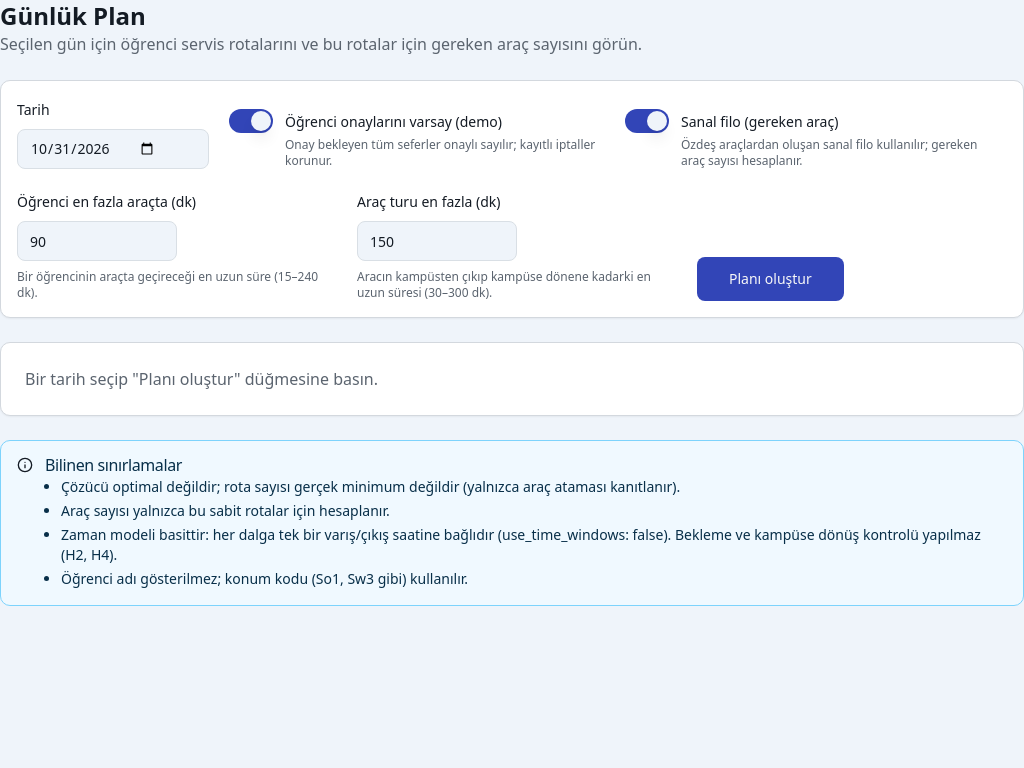
Scenario: DailyPlanPage › shows the limits used in the banner, the day's longest ride and each route's longest ride
The image size is (1024, 768).
Type "2026-10-05" into the date field labelled "Tarih" at (113, 149), box x1=17 y1=129 x2=209 y2=169
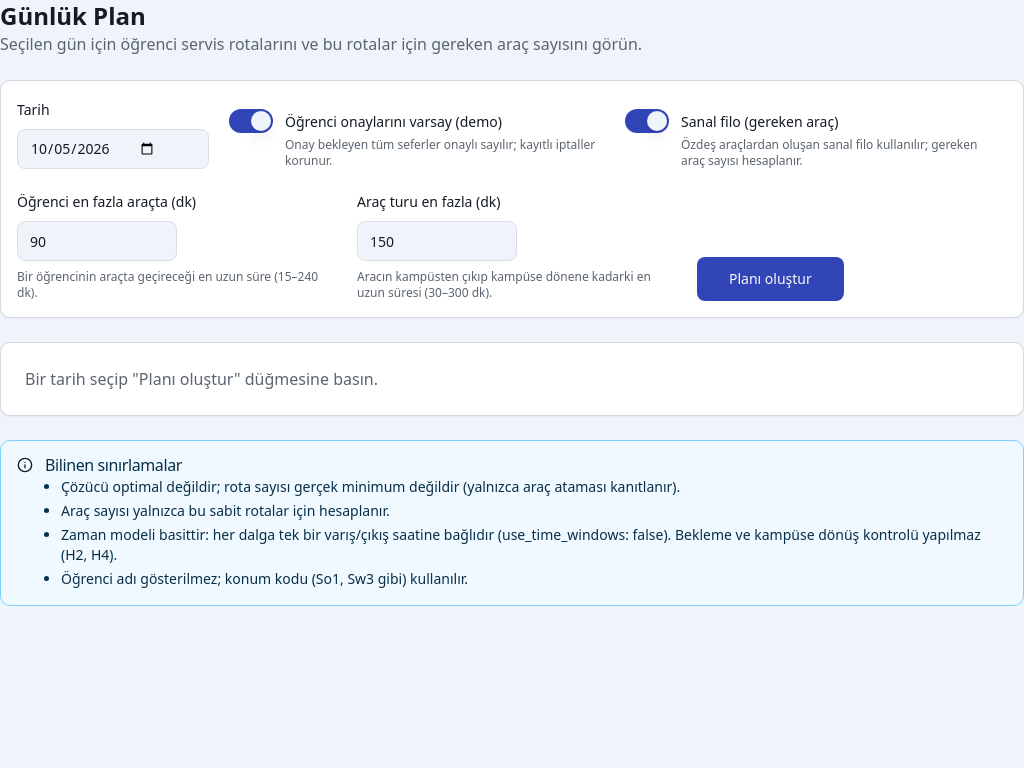
Click the button "Planı oluştur" at (770, 279), box x1=697 y1=257 x2=844 y2=301
(page scrolled)
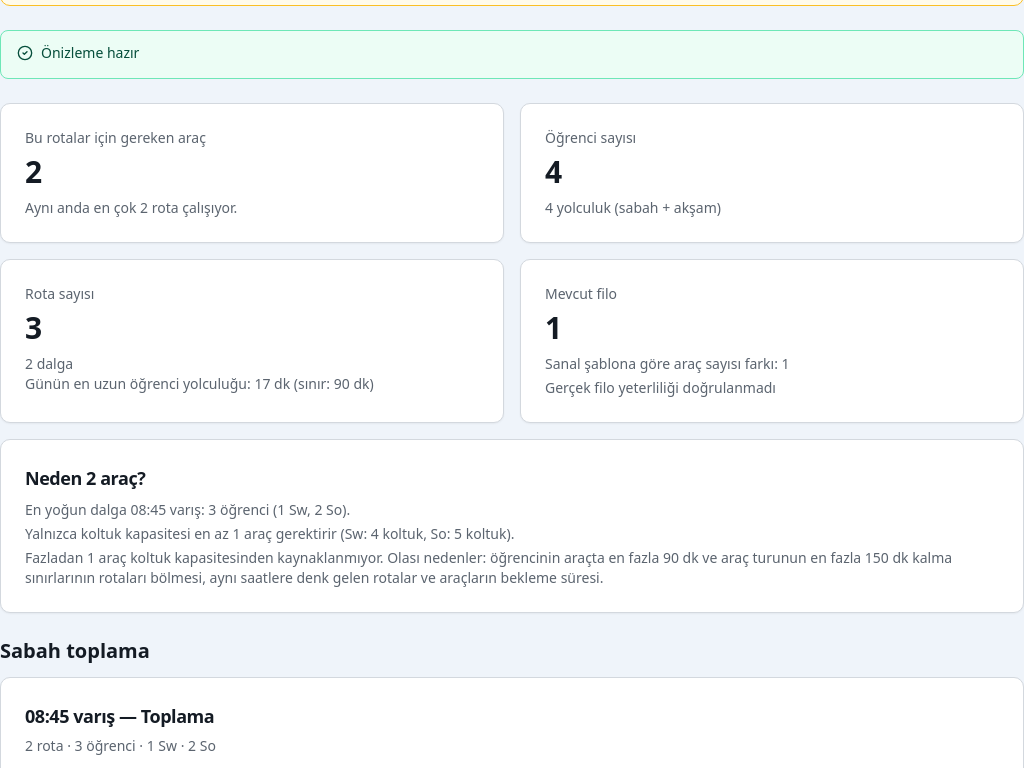
Check: the text with test id "day-max-ride" reads "Günün en uzun öğrenci yolculuğu: 17 dk (sınır: 90 dk)", box x1=25 y1=374 x2=374 y2=393
